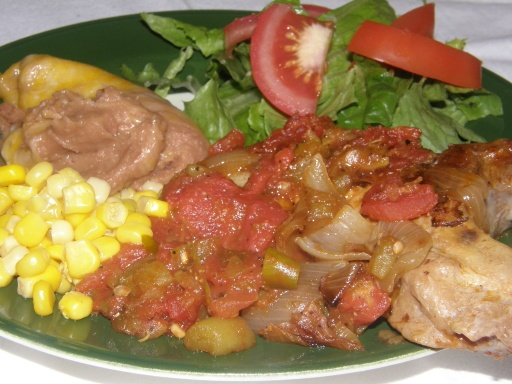background: (0, 0, 410, 217)
